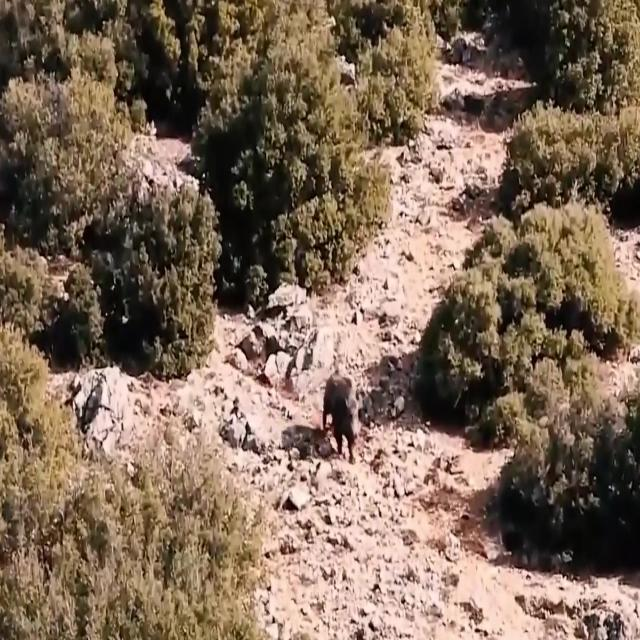pig: (322, 352, 374, 475)
